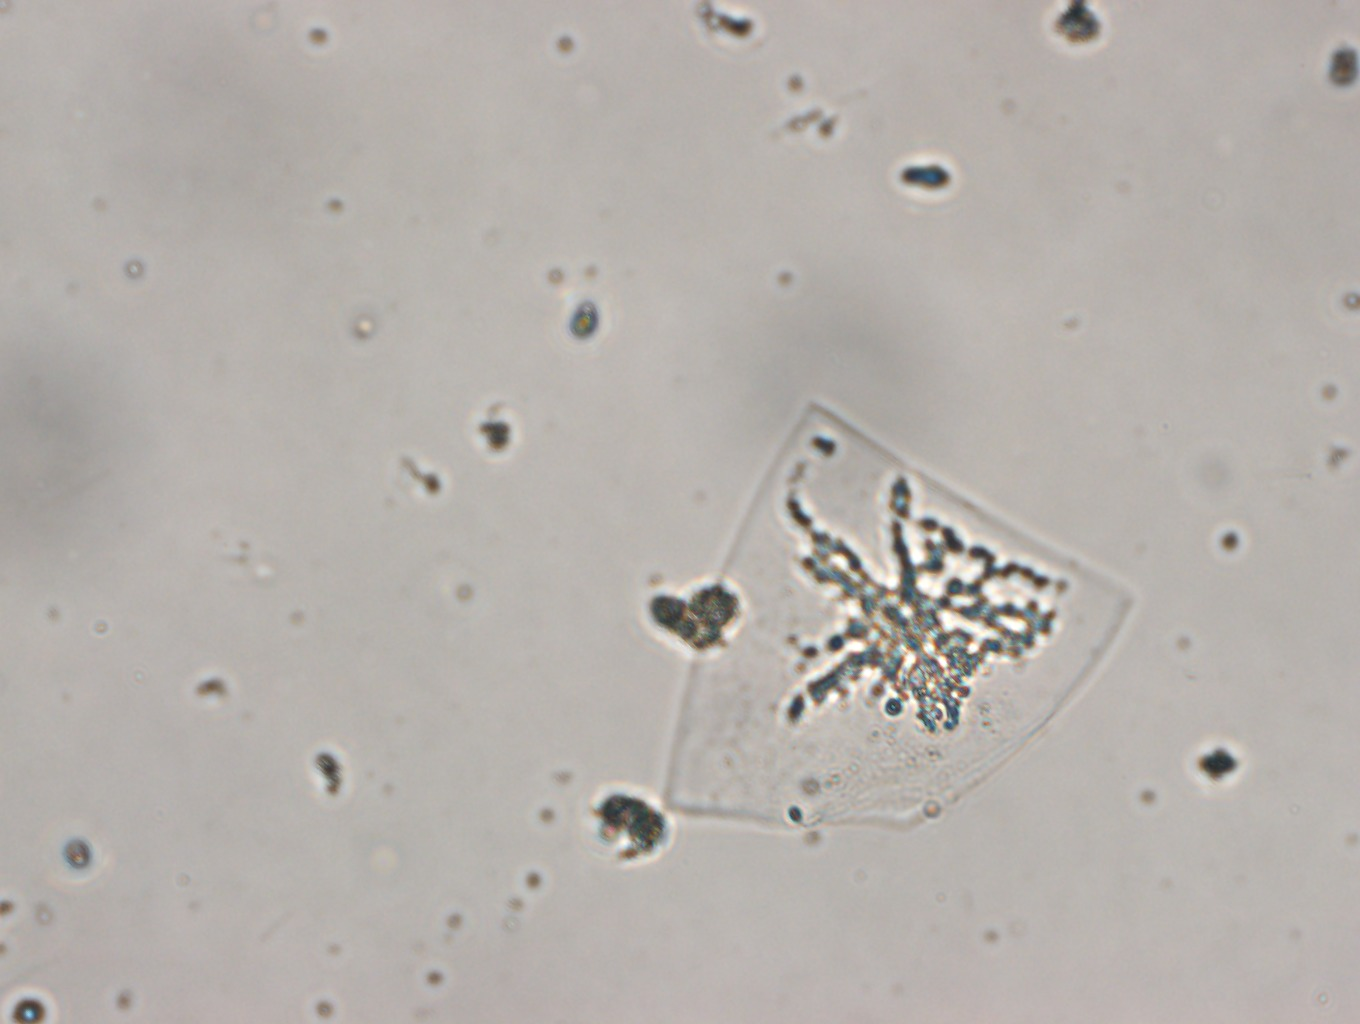helicotheca: (654, 394, 1144, 840)
